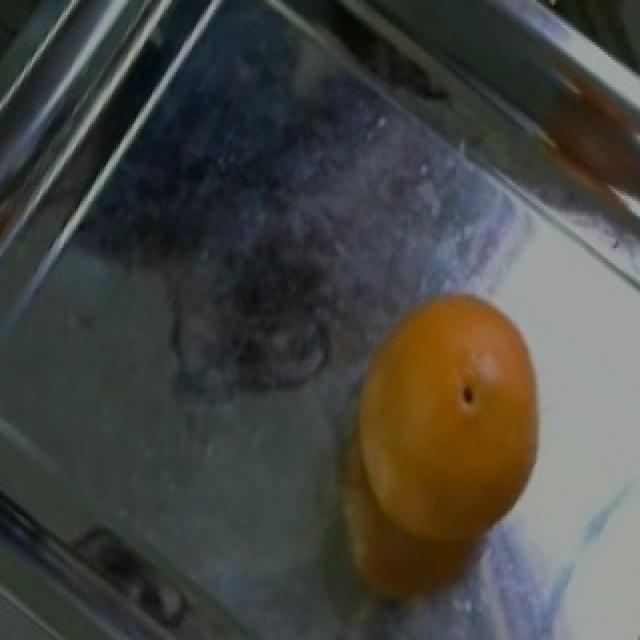Fruit: (324, 273, 568, 613)
